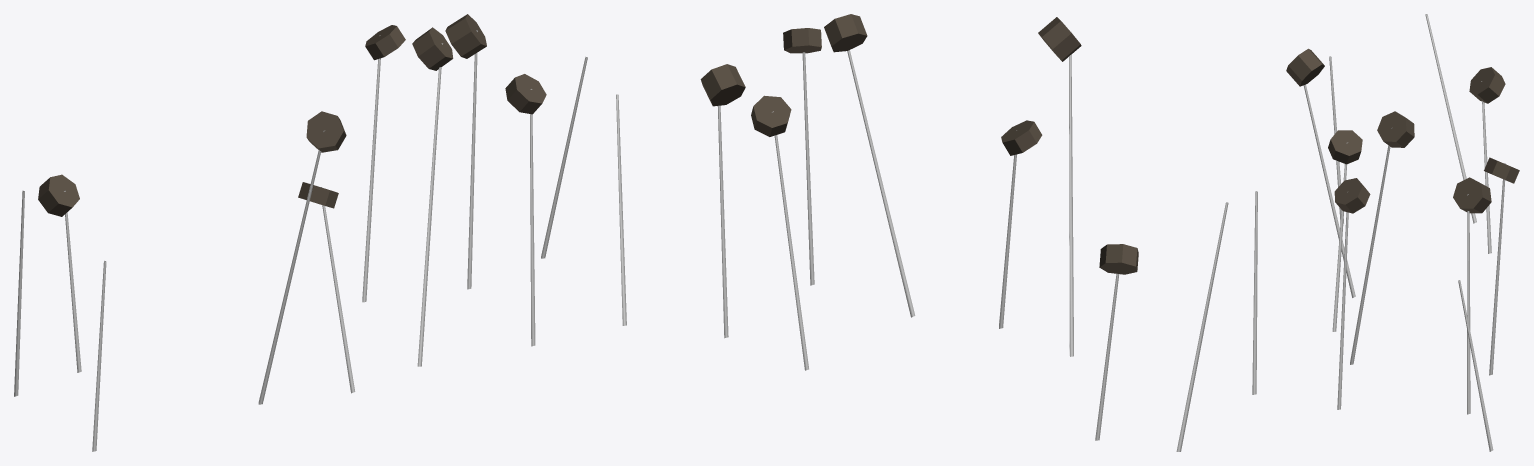
The model's file is S7U_Sunflowers_B.fbx.
3 renders of one model, left to right at view 1: azimuth 30°, elevation 25°; view 2: azimuth 150°, elevation 25°; view 3: azimuth 270°, elevation 25°, orthographic. The views are drawn at different scales.
Parts seen in each view (by area): view 1: S7U_Sunflowers_B; view 2: S7U_Sunflowers_B; view 3: S7U_Sunflowers_B.
Part boxes in pixels (x1,y1,x2,y2): S7U_Sunflowers_B: (14,14,587,451); S7U_Sunflowers_B: (616,14,1257,451); S7U_Sunflowers_B: (1286,14,1519,451).
Bounding box in the file's own units: 3.82 × 1.92 × 1.52.
